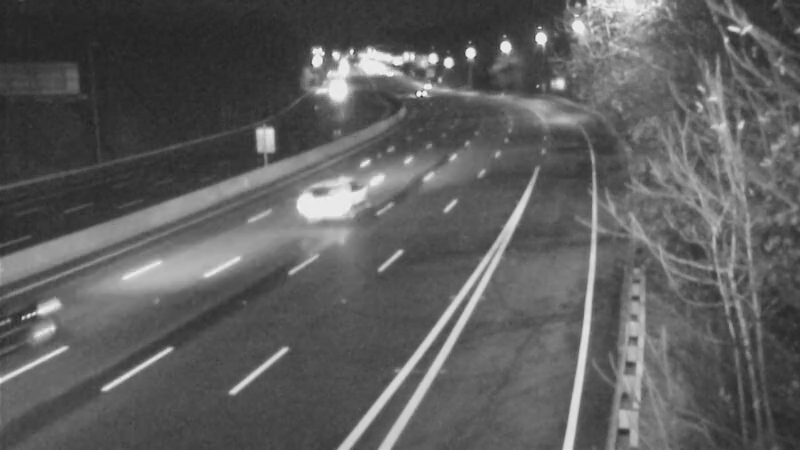vehicle: (1, 260, 98, 370), (280, 163, 360, 243), (396, 69, 446, 119), (309, 63, 359, 113)
